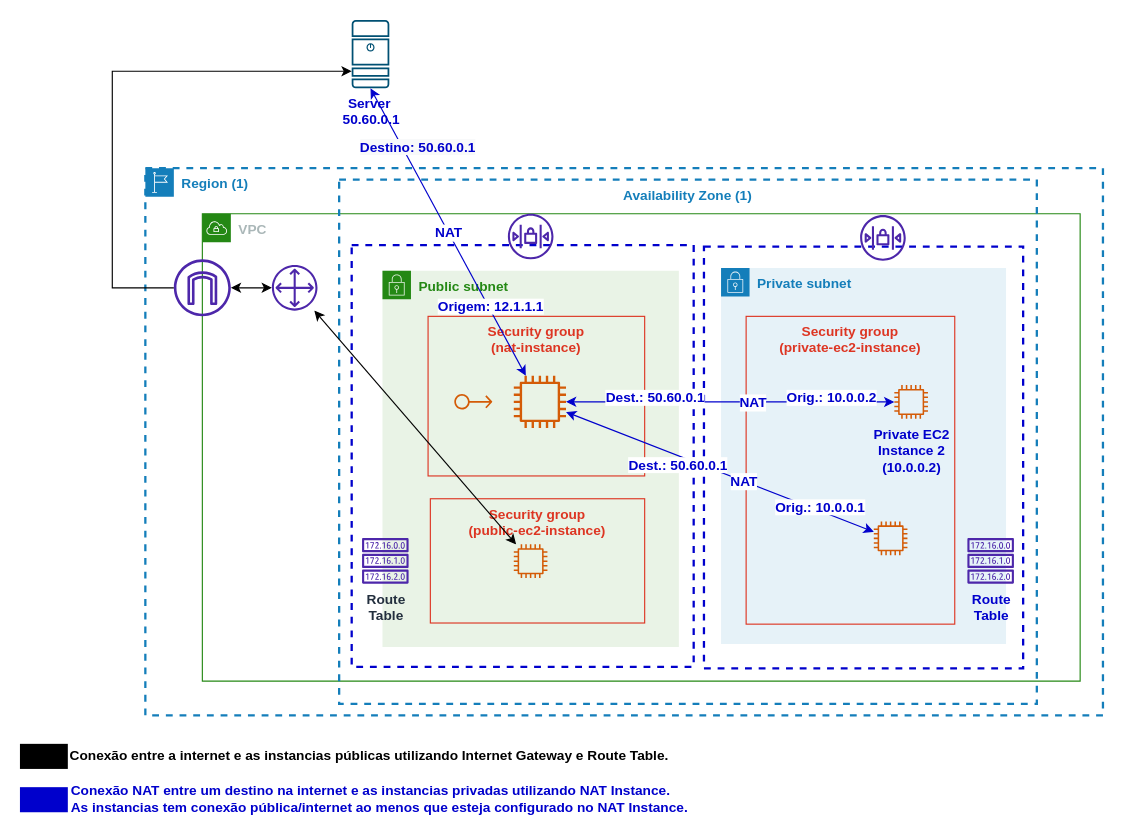
The diagram is 1123 pixels wide and 834 high, and some of its shapes have lost their labels. Each missing label, with the centre of its shape:
EC2 Linux NAT Instance: point (539, 401)
EIP (12.1.1.1): point (473, 401)
Internet Gateway: point (201, 287)
Private EC2 Instance 1 (10.0.0.1): point (890, 538)
Public EC2 Instance: point (530, 560)
Router: point (294, 287)
